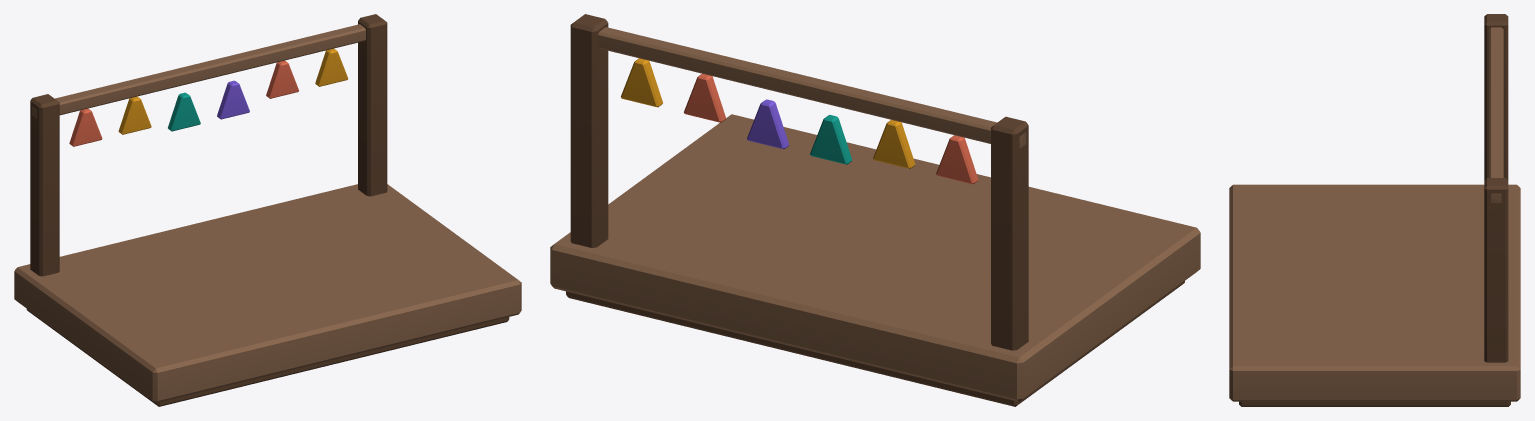
File: festival-stage.glb
The picture shows the model from 3 angles, left to right: view 1: azimuth 30°, elevation 25°; view 2: azimuth 150°, elevation 25°; view 3: azimuth 270°, elevation 25°; orthographic projection. The views are drawn at different scales.
Parts seen in each view (by area): view 1: festival-stage; view 2: festival-stage; view 3: festival-stage.
Part boxes in pixels (x1=…): festival-stage: x1=14, y1=14, x2=521, y2=406; festival-stage: x1=550, y1=14, x2=1200, y2=406; festival-stage: x1=1229, y1=14, x2=1520, y2=406.
Size of the model in its own units: 1.8 by 1 by 1.2.
